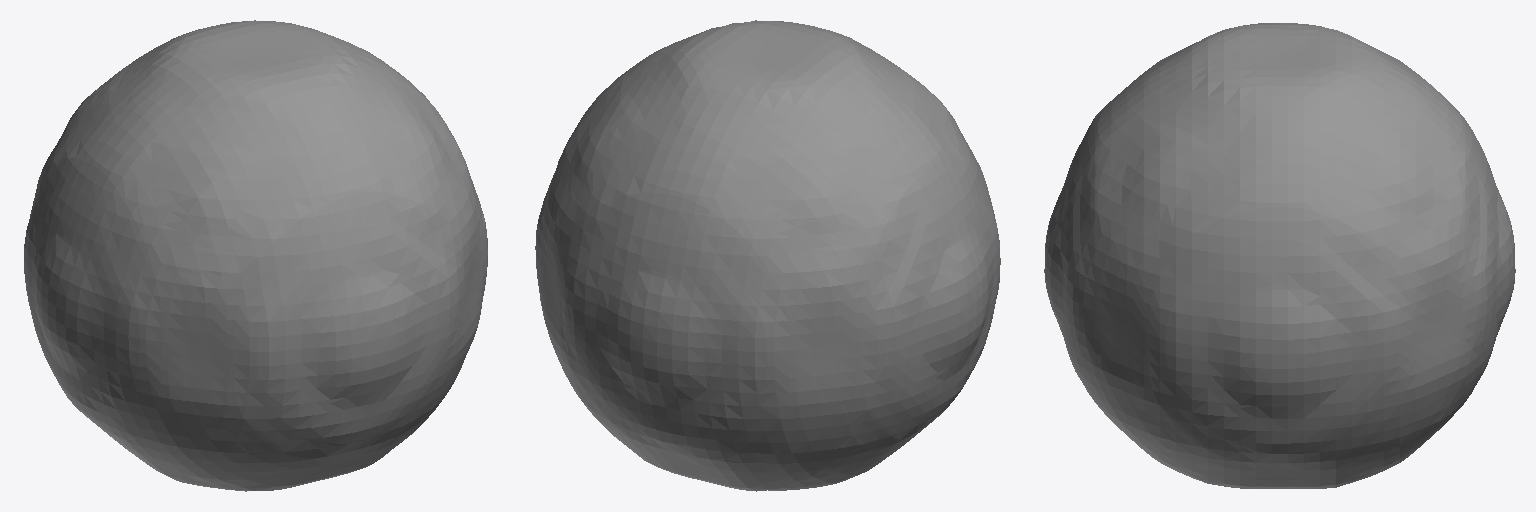
The robot description file, URDF, robot "cube.urdf":
<?xml version="0.0" ?> 
<robot name="cube.urdf"> 
<link name="legobrick"> 
<contact> 
<lateral_friction value="5.0"/> 
<rolling_friction value="0.0"/> 
<contact_cfm value="0.0"/> 
<contact_erp value="1.0"/> 
</contact> 
<inertial> 
<origin rpy="0 0 0" xyz="0.0 0.0 0.0"/> 
<mass value=".01"/> 
<inertia ixx="1" ixy="0" ixz="0" iyy="1" iyz="0" izz="1"/> 
</inertial> 
<visual> 
<origin rpy="1.570796 0 0" xyz="-0.028063319493284715 0.028062970759485856 -0.022309342402494037"/> 
<geometry> 
<mesh filename="D01_2.obj" scale="0.0006413306206781199 0.0006413306206781199 0.0006413306206781199"/> 
</geometry> 
<material name="yellow"> 
<color rgba="0.6 0.6 0.6 1"/> 
</material> 
</visual> 
<collision> 
<origin rpy="1.570796 0 0" xyz="-0.028063319493284715 0.028062970759485856 -0.022309342402494037"/> 
<geometry> 
<mesh filename="D01_2.obj" scale="0.0006413306206781199 0.0006413306206781199 0.0006413306206781199"/> 
</geometry> 
</collision> 
</link> 
</robot>

--- What the picture shows (computed from the rendered views, not written in the file) ---
3 views of the same robot in one strip: view 1: azimuth 30°, elevation 25°; view 2: azimuth 150°, elevation 25°; view 3: azimuth 270°, elevation 25° (orthographic).
Model cube.urdf with 1 links and 0 joints (none), rooted at legobrick, posed every joint at zero.
Links seen in each view (by area): view 1: legobrick; view 2: legobrick; view 3: legobrick.
Link boxes in pixels (x1=…): legobrick: x1=24, y1=20, x2=487, y2=491; legobrick: x1=535, y1=20, x2=1000, y2=491; legobrick: x1=1044, y1=23, x2=1515, y2=488.
Size in the robot's own frame: 0.056 by 0.056 by 0.0513 metres.
1 mesh visuals loaded from 1 distinct referenced files (1 OBJ).
